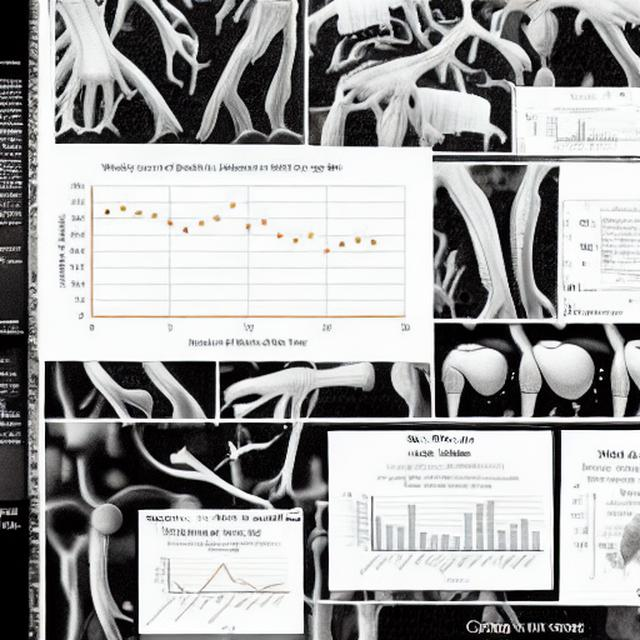Graph: (47, 157, 417, 358), (351, 472, 545, 585), (150, 538, 290, 633), (543, 106, 621, 153)
